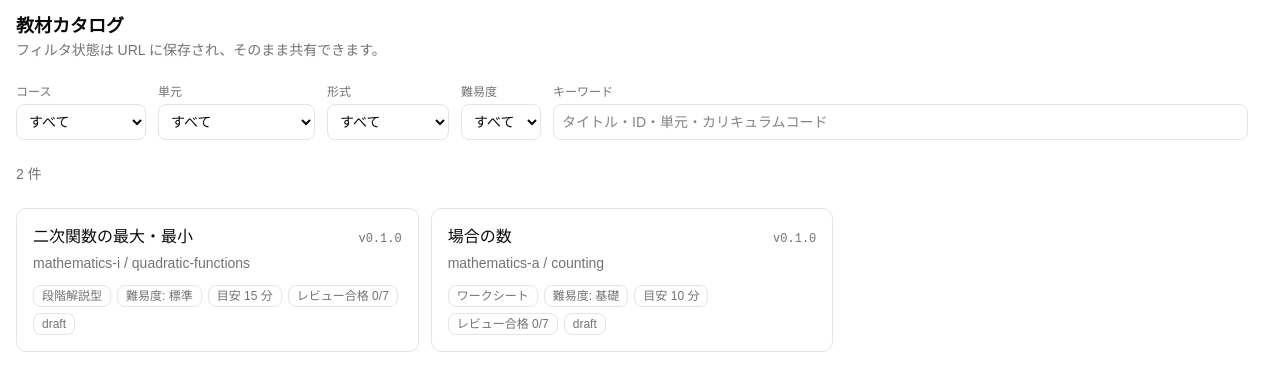
it: CatalogPage › narrows results when a filter is selected
The image size is (1265, 369).
Select "ワークシート" in the dropdown labelled "形式". click: (388, 122)
box: [327,104,449,140]
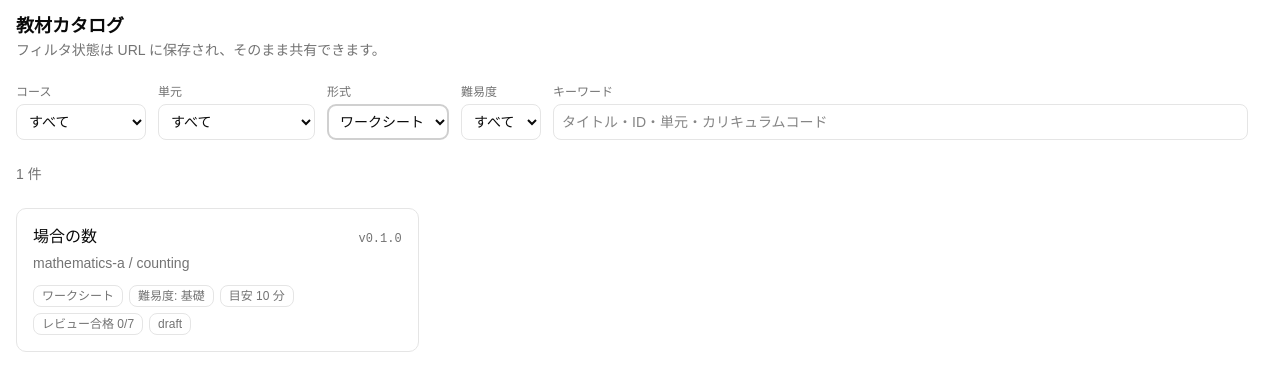
Check: the heading "場合の数" is shown, box [33,225,97,249]
Check: the text "1 件" is shown, box [16,166,42,182]
